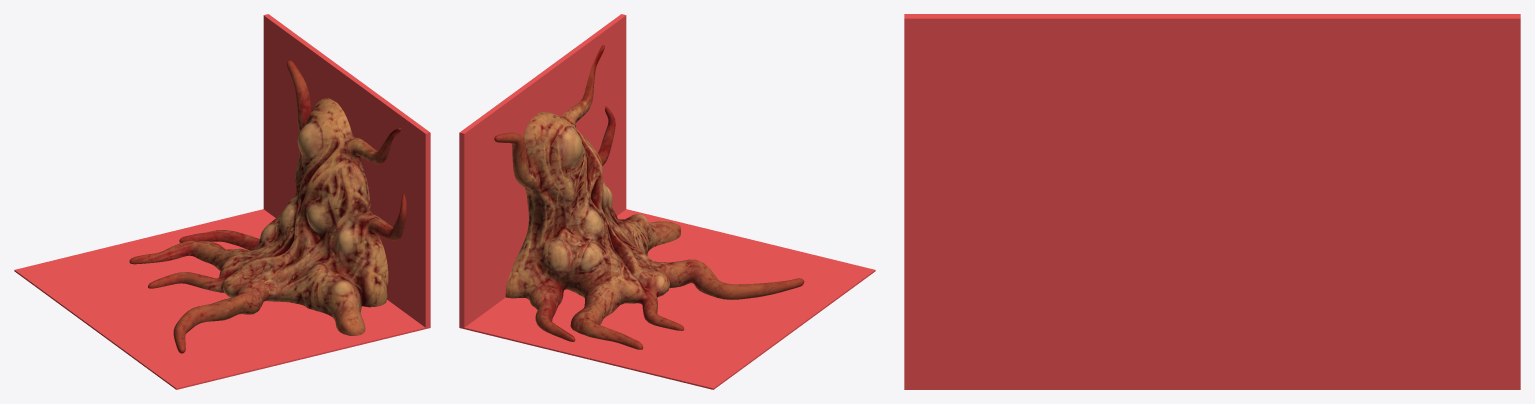
3 views of the same model, side by side, from view 1: azimuth 30°, elevation 25°; view 2: azimuth 150°, elevation 25°; view 3: azimuth 270°, elevation 25° (orthographic). The views are drawn at different scales.
Visible parts, largest first — view 1: Object_3, Object_2; view 2: Object_3, Object_2; view 3: Object_3.
Part boxes in pixels (box(x1,y1,x2,y2)): Object_3: box(14, 14, 430, 389); Object_2: box(129, 60, 406, 353); Object_3: box(459, 14, 875, 389); Object_2: box(494, 45, 804, 349); Object_3: box(904, 14, 1520, 389).
Bounding box in the file's own units: 7.17 × 5.27 × 7.92.
2 materials, 1 textured.
